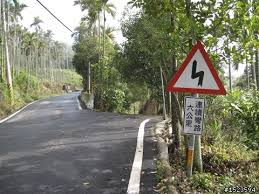Double_bend_left: (159, 37, 234, 98)
